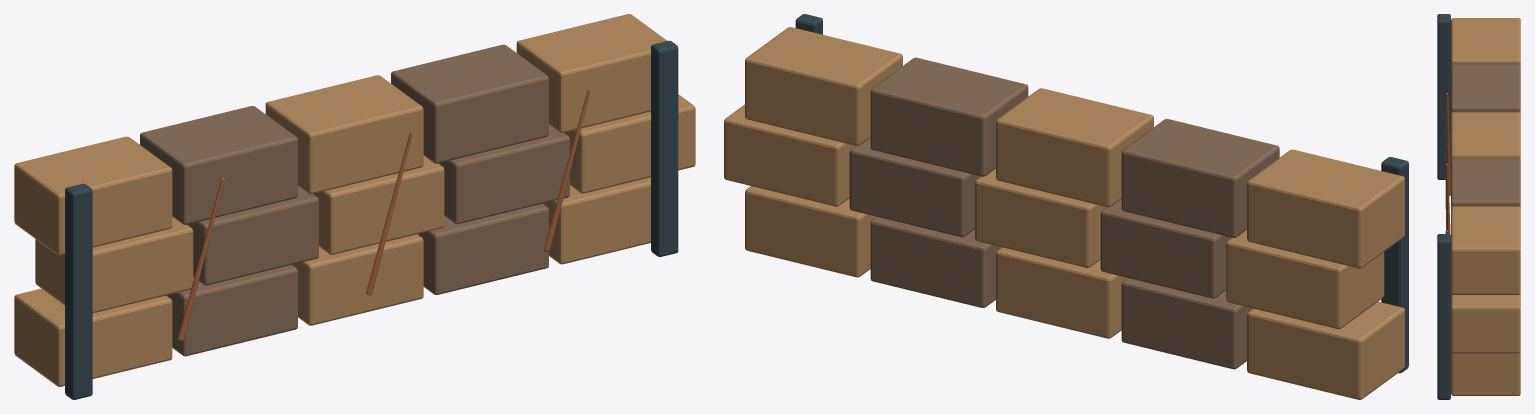
File: quarry_retaining.glb
The picture shows the model from 3 angles, left to right: view 1: azimuth 30°, elevation 25°; view 2: azimuth 150°, elevation 25°; view 3: azimuth 270°, elevation 25°; orthographic projection. The views are drawn at different scales.
Parts seen in each view (by area): view 1: CutBlock, CutBlock.001, IronBrace, OreSeam; view 2: CutBlock, CutBlock.001, IronBrace; view 3: CutBlock, CutBlock.001, IronBrace, OreSeam.
Boxes of the visible parts, <box> form: CutBlock: <box>14,14,695,386</box>; CutBlock.001: <box>140,44,569,356</box>; IronBrace: <box>65,40,678,399</box>; OreSeam: <box>177,89,590,341</box>; CutBlock: <box>724,27,1404,399</box>; CutBlock.001: <box>849,57,1279,369</box>; IronBrace: <box>795,14,1408,373</box>; CutBlock: <box>1451,18,1520,395</box>; CutBlock.001: <box>1451,65,1520,208</box>; IronBrace: <box>1437,14,1450,399</box>; OreSeam: <box>1445,93,1450,234</box>.
Size of the model in its own units: 6.1 by 1.9 by 0.9.
